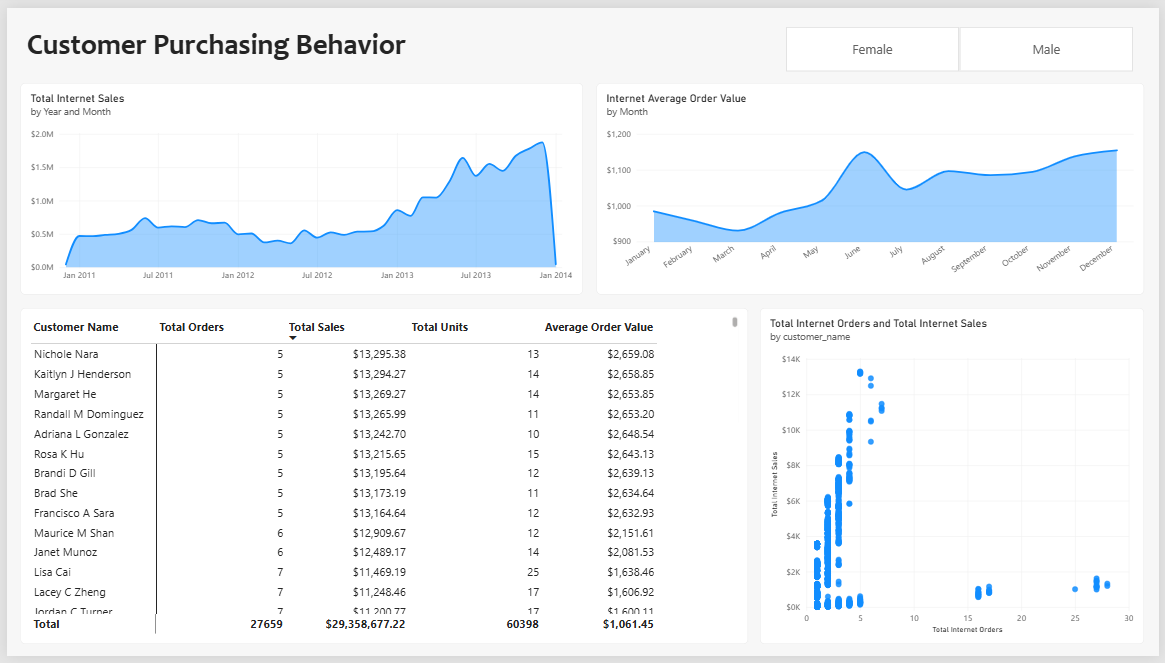

The page's visual inventory and layout, read from the dashboard file:
{"tool":"powerbi","page":{"name":"Customer Purchasing Behavior","canvas":[1920,1080],"ordinal":1},"visuals":[{"type":"stackedAreaChart","fields":{"Category":["fact_internet_sales.order_date.Variation.Date Hierarchy.Year","fact_internet_sales.order_date.Variation.Date Hierarchy.Month"],"Y":["_measure (internet).Total Internet Sales"]},"box":[22.5,125,937.5,352.5],"z":0},{"type":"scatterChart","fields":{"Category":["dim_customer.customer_name"],"X":["_measure (internet).Total Internet Orders"],"Y":["_measure (internet).Total Internet Sales"]},"box":[1255,500,640,560],"z":1000},{"type":"stackedAreaChart","fields":{"Category":["fact_internet_sales.order_date.Variation.Date Hierarchy.Month"],"Y":["_measure (internet).Internet Average Order Value"]},"box":[982.5,125,912.5,352.5],"z":2000},{"type":"pivotTable","fields":{"Rows":["dim_customer.customer_name"],"Values":["_measure (internet).Total Internet Orders","_measure (internet).Total Internet Sales","_measure (internet).Total Internet Units","_measure (internet).Internet Average Order Value"]},"box":[22.5,500,1212.5,560],"z":3000},{"type":"textbox","box":[22.5,30,685,77.5],"z":4000},{"type":"slicer","fields":{"Values":["dim_customer.gender"]},"box":[1277.5,30,617.5,77.5],"z":5000}]}

Visuals, with their boxes in screenshot pixels (x1, y1, x2, y2), scaled from the page's 1920x1080 canvas onto the 1165x663 screenshot:
stackedAreaChart - fact_internet_sales.order_date.Variation.Date Hierarchy.Year x fact_internet_sales.order_date.Variation.Date Hierarchy.Month: left=14, top=77, right=582, bottom=293
scatterChart - dim_customer.customer_name x _measure (internet).Total Internet Orders: left=761, top=307, right=1150, bottom=651
stackedAreaChart - fact_internet_sales.order_date.Variation.Date Hierarchy.Month x _measure (internet).Internet Average Order Value: left=596, top=77, right=1150, bottom=293
pivotTable - dim_customer.customer_name x _measure (internet).Total Internet Orders: left=14, top=307, right=749, bottom=651
textbox: left=14, top=18, right=429, bottom=66
slicer - dim_customer.gender: left=775, top=18, right=1150, bottom=66
